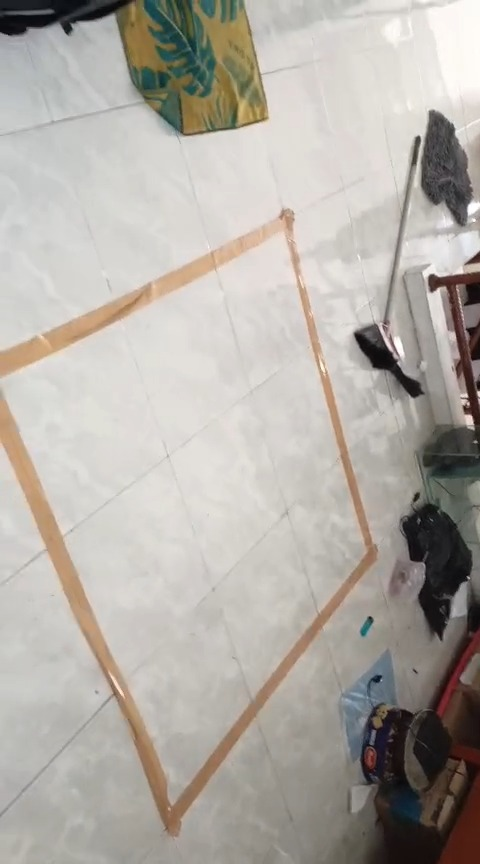floor marking: (0, 209, 375, 832)
